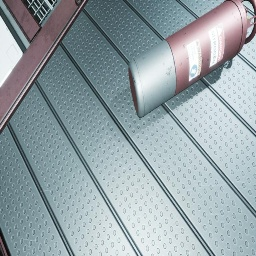NitrogenTank ,: (128, 0, 256, 118)
